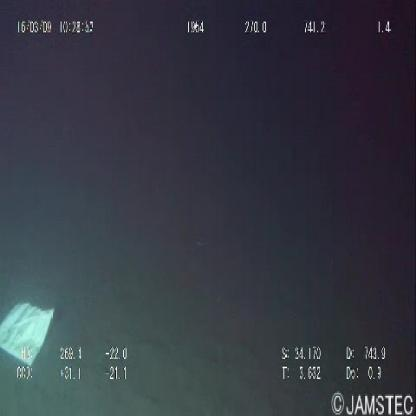Rác: (1, 296, 59, 371)
